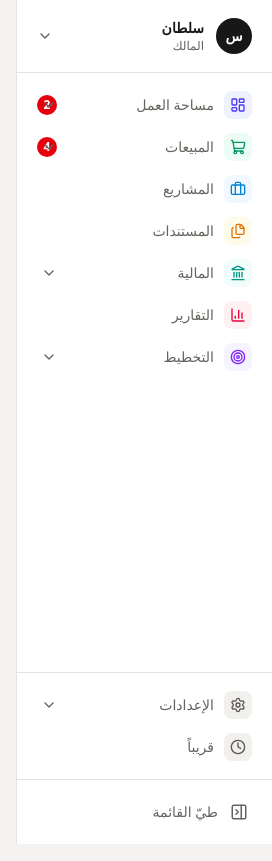
Sidebar › the account menu offers the account page and sign-out
The image size is (272, 861).
Click the button with aria-label "حساب سلطان": (144, 36) x1=29 y1=12 x2=260 y2=60
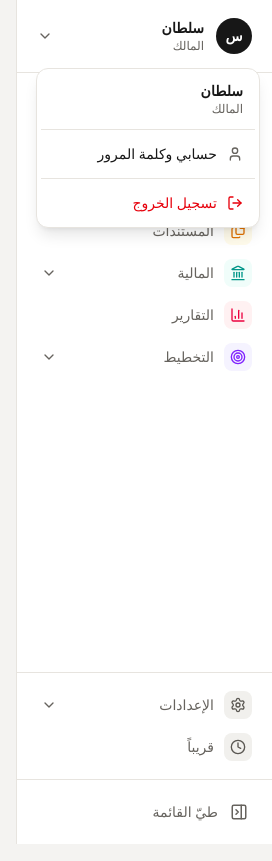
Expected: the menu item "حسابي وكلمة المرور" is shown, x1=98 y1=144 x2=243 y2=163
Expected: the menu item "تسجيل الخروج" is shown, x1=132 y1=193 x2=243 y2=212
